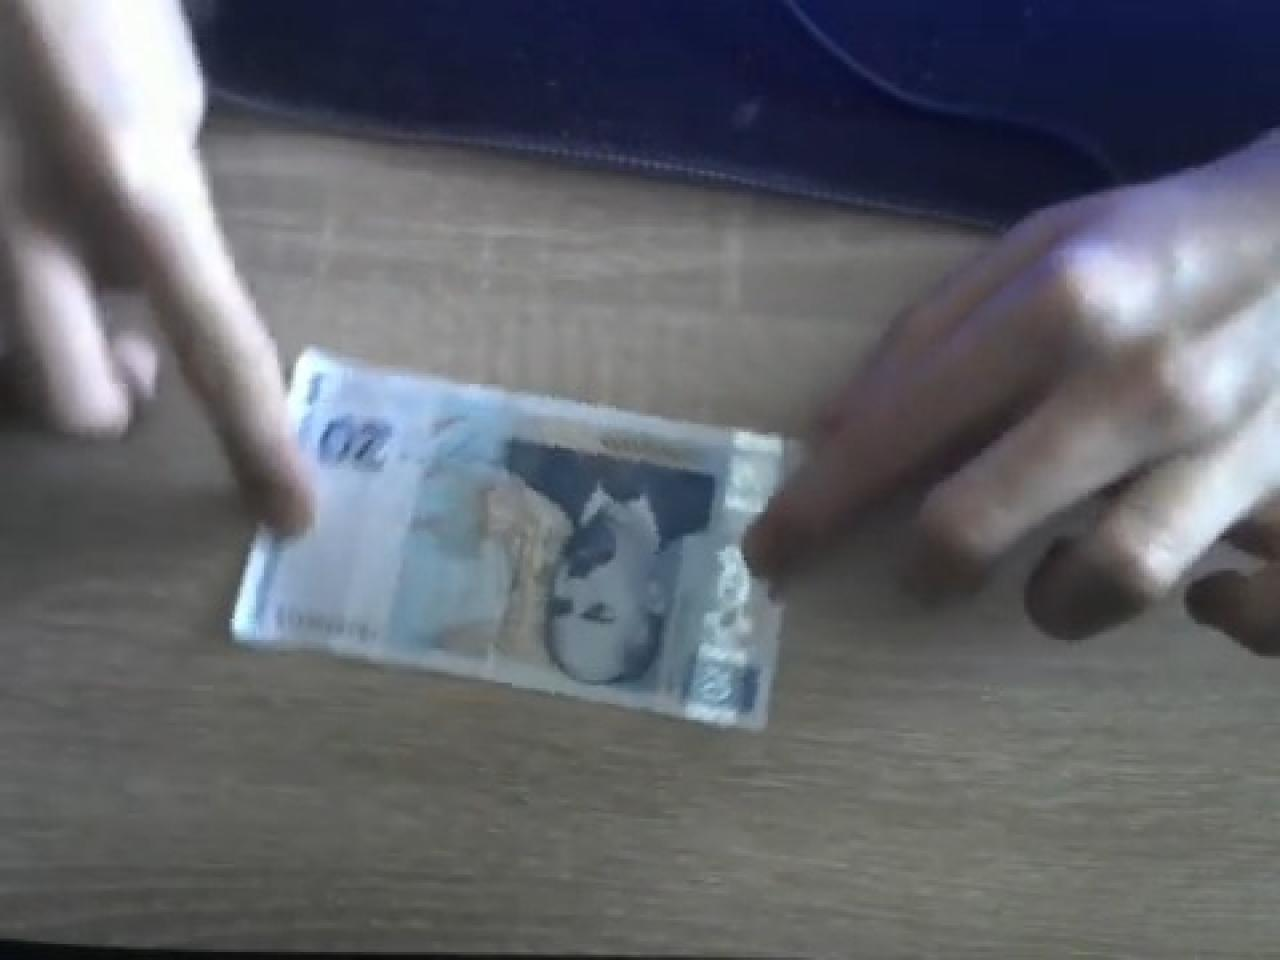20leva: (227, 344, 805, 736)
